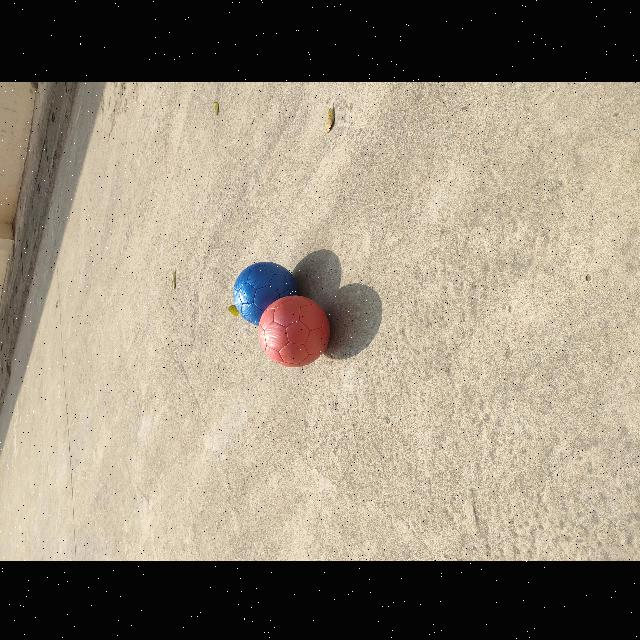B: (233, 260, 298, 323)
R: (259, 293, 330, 366)
